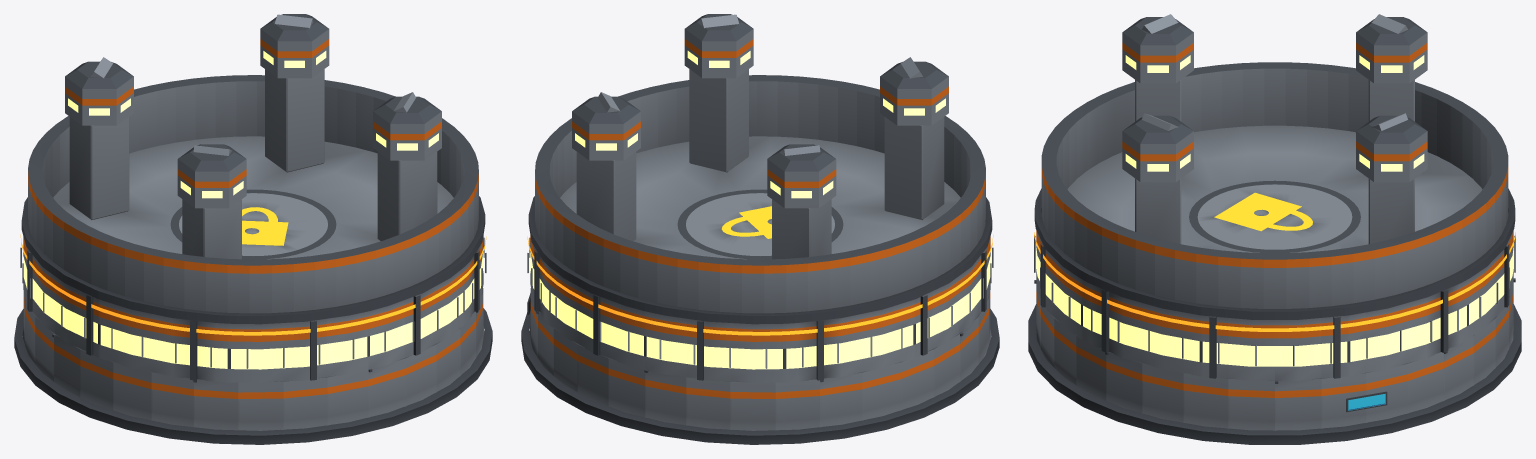
Rendered from jail_s.glb.
3 renders of one model, left to right at view 1: azimuth 30°, elevation 25°; view 2: azimuth 150°, elevation 25°; view 3: azimuth 270°, elevation 25°, orthographic. The views are drawn at different scales.
Visible parts, largest first — view 1: Roof, Base, PorchTop, Upper_20, Upper_21, Upper_22, Upper_23, Upper_19, Wall_21, Upper_18, Wall_20, Wall_22 (+19 smaller); view 2: Roof, Base, PorchTop, Upper_11, Upper_10, Upper_09, Upper_08, Upper_12, Wall_10, Upper_13, Wall_09, Wall_11 (+19 smaller); view 3: Roof, Base, PorchTop, Upper_00, Upper_31, Upper_01, Upper_30, Upper_02, Upper_29, Wall_00, Wall_31, Wall_30 (+20 smaller).
Part boxes in pixels (box(x1,y1,x2,y2)): Roof: box(21, 14, 485, 324); Base: box(14, 308, 492, 444); PorchTop: box(20, 14, 486, 335); Upper_20: box(193, 320, 238, 382); Upper_21: box(238, 323, 283, 382); Upper_22: box(283, 319, 327, 381); Upper_23: box(327, 311, 368, 376); Upper_19: box(152, 314, 193, 380); Wall_21: box(238, 381, 283, 430); Upper_18: box(111, 304, 151, 371); Wall_20: box(193, 379, 238, 430); Wall_22: box(283, 377, 327, 429); Roof: box(528, 14, 992, 324); Base: box(521, 309, 999, 444); PorchTop: box(527, 14, 993, 335); Upper_11: box(775, 320, 820, 382); Upper_10: box(730, 323, 775, 382); Upper_09: box(686, 319, 730, 381); Upper_08: box(645, 311, 686, 376); Upper_12: box(820, 314, 861, 380); Wall_10: box(730, 381, 775, 430); Upper_13: box(862, 304, 902, 371); Wall_09: box(686, 377, 730, 429); Wall_11: box(775, 379, 819, 430); Roof: box(1034, 17, 1515, 319); Base: box(1028, 304, 1521, 444); PorchTop: box(1034, 14, 1515, 331); Upper_00: box(1275, 318, 1321, 380); Upper_31: box(1228, 318, 1274, 380); Upper_01: box(1321, 312, 1367, 378); Upper_30: box(1182, 312, 1228, 378); Upper_02: box(1366, 303, 1406, 372); Upper_29: box(1143, 303, 1183, 372); Wall_00: box(1275, 378, 1321, 430); Wall_31: box(1228, 378, 1274, 430); Wall_30: box(1183, 373, 1228, 428).
Size of the model in its own units: 11.74 by 7.13 by 11.74.
